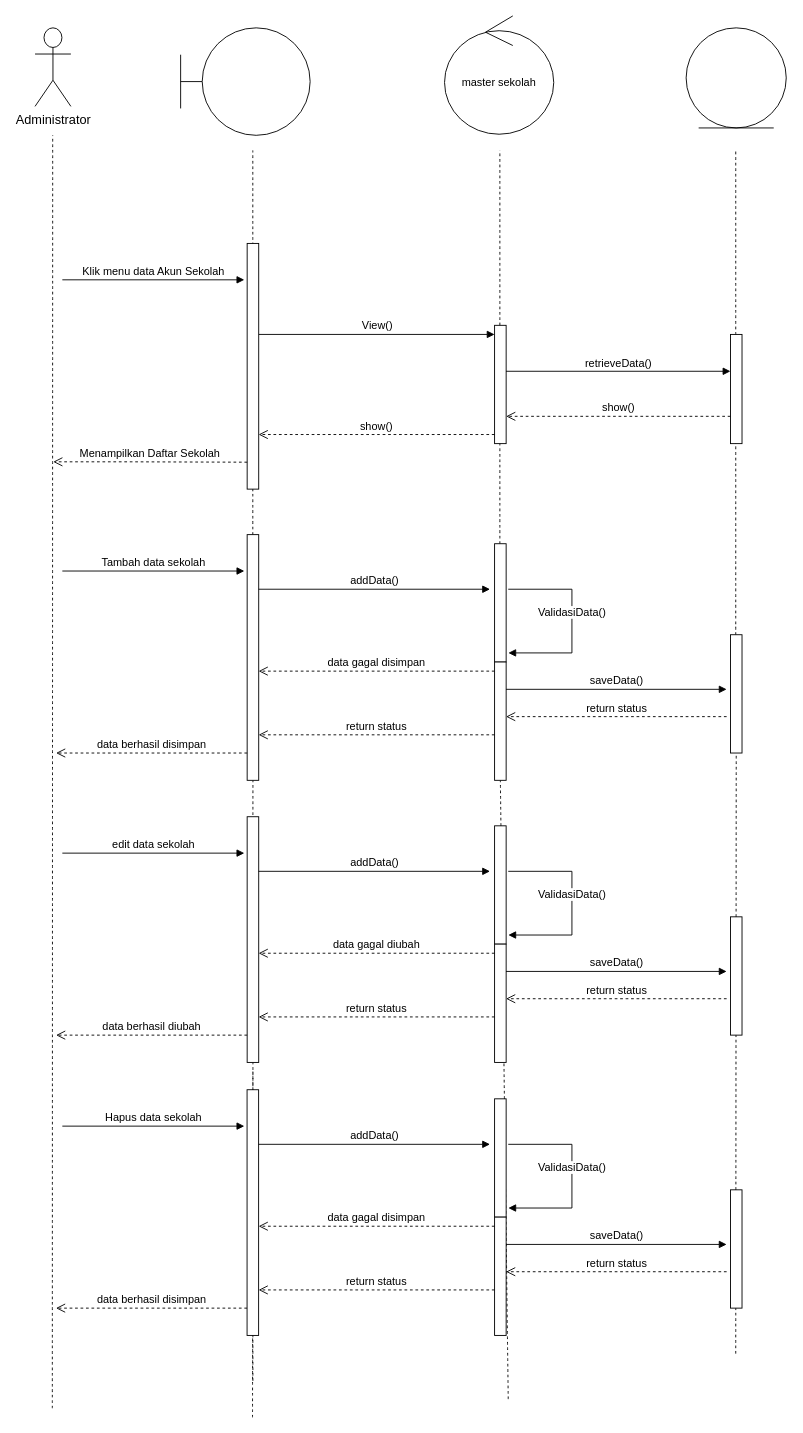
Image size: 803x1433. Some labels were removed from this diagram. Here are the shapes that lost their labels. From the top down, the centre of each, then its label:
point (245, 81): Data Daftar Sekolah
point (735, 77): db_school
